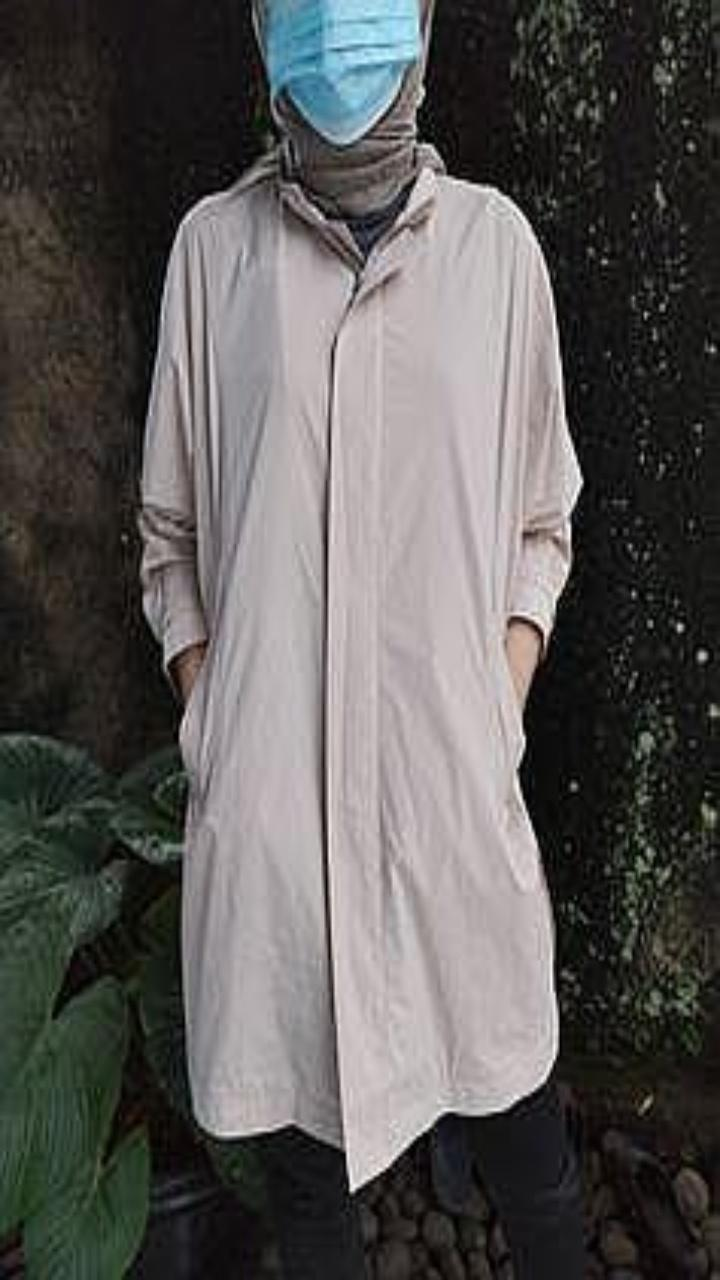Coat: (138, 147, 582, 1189)
Jeans: (466, 1072, 585, 1279)
